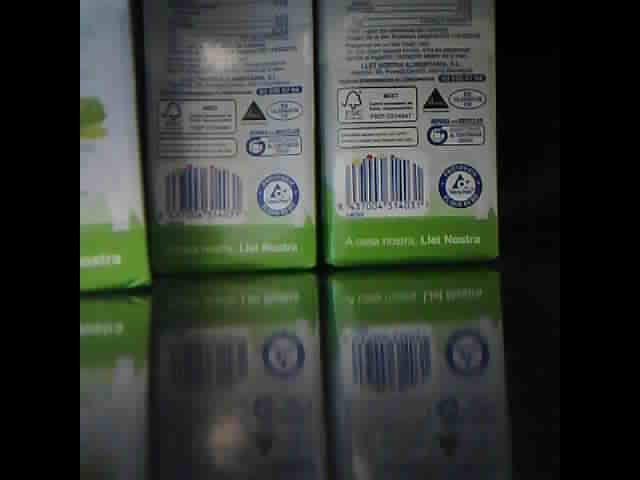leche: (149, 4, 315, 277), (326, 3, 494, 266), (82, 2, 148, 292)
